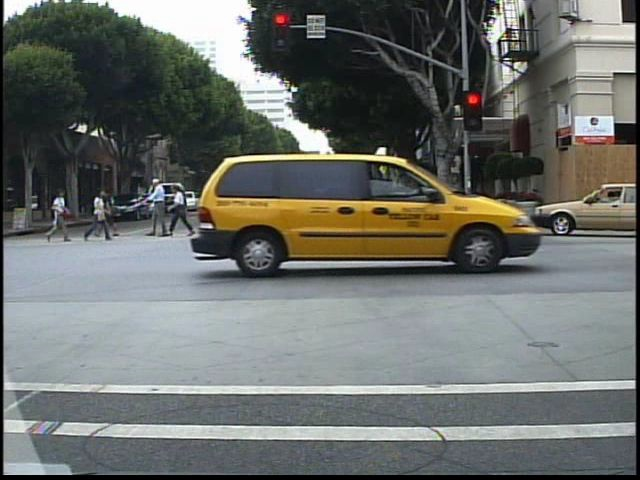person: (296, 168, 323, 238), (82, 188, 114, 246), (146, 173, 172, 242), (44, 188, 74, 244), (227, 180, 255, 238), (171, 184, 194, 238), (104, 185, 121, 240)
